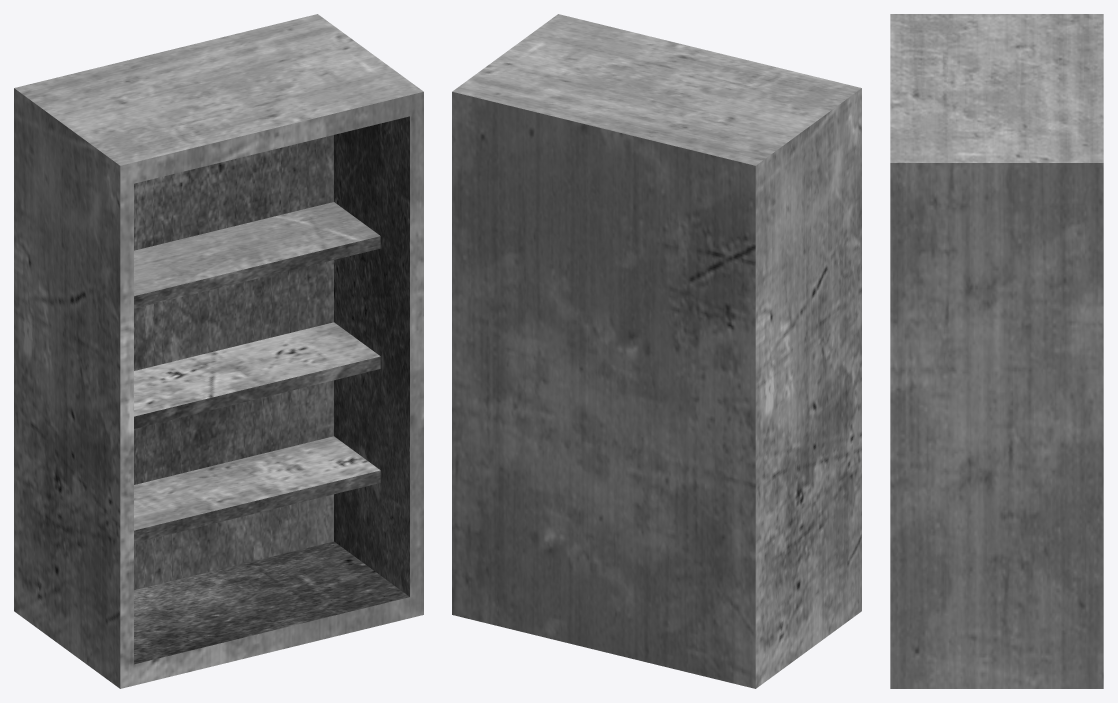
File: basement shelf.fbx
3 renders of one model, left to right at view 1: azimuth 30°, elevation 25°; view 2: azimuth 150°, elevation 25°; view 3: azimuth 270°, elevation 25°, orthographic.
Parts seen in each view (by area): view 1: group6_pasted__pCube2; view 2: group6_pasted__pCube2; view 3: group6_pasted__pCube2.
Part boxes in pixels (<box>): group6_pasted__pCube2: <box>14,14,423,688</box>; group6_pasted__pCube2: <box>452,14,861,688</box>; group6_pasted__pCube2: <box>890,14,1103,688</box>.
Size of the model in its own units: 4.13 by 6.79 by 2.5.
Materials: 1 (1 with a texture image).
